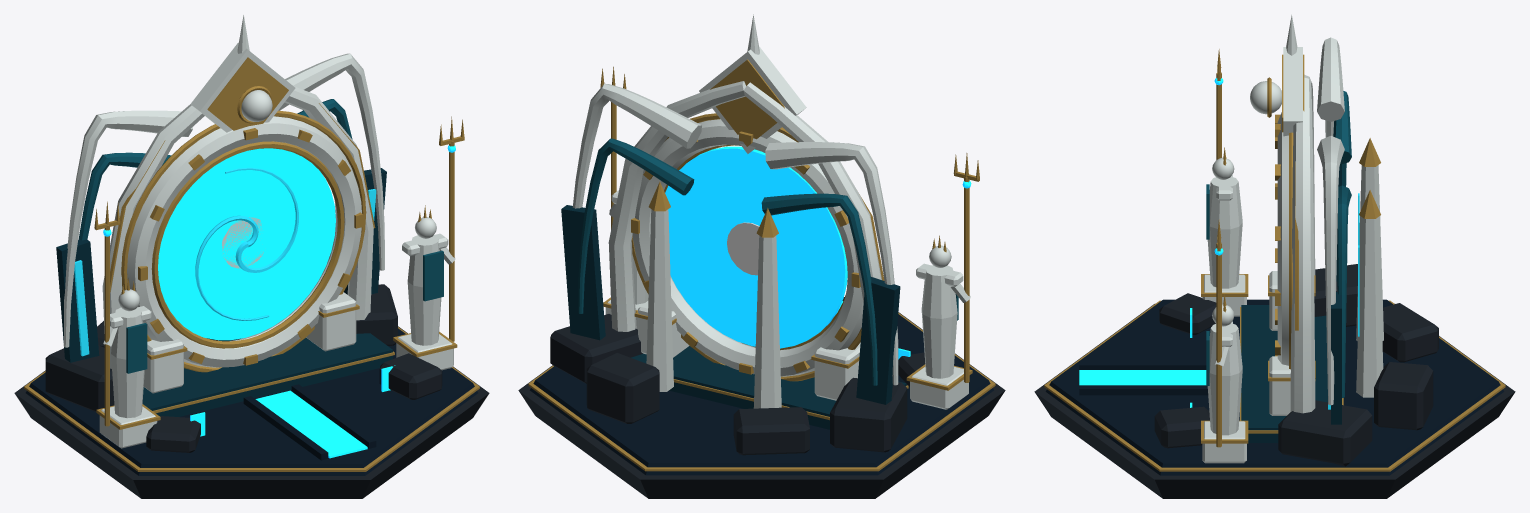
The model's file is poseidon_abyss_gate.glb.
The picture shows the model from 3 angles, left to right: view 1: azimuth 30°, elevation 25°; view 2: azimuth 150°, elevation 25°; view 3: azimuth 270°, elevation 25°; orthographic projection. The views are drawn at different scales.
Parts seen in each view (by area): view 1: poseidon_abyss_gate; view 2: poseidon_abyss_gate; view 3: poseidon_abyss_gate.
Part boxes in pixels (x1=…): poseidon_abyss_gate: x1=14, y1=15, x2=489, y2=498; poseidon_abyss_gate: x1=518, y1=14, x2=1005, y2=498; poseidon_abyss_gate: x1=1034, y1=14, x2=1515, y2=498.
Size of the model in its own units: 1.55 by 1.59 by 1.72.
Materials: 1 (1 with a texture image).
